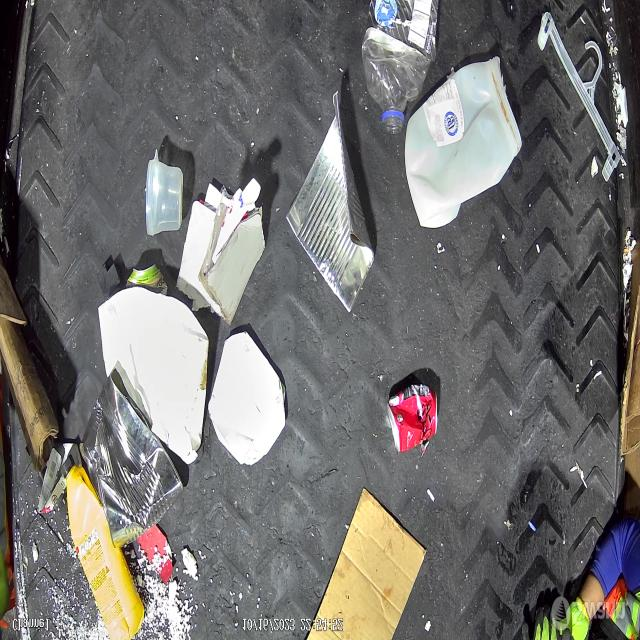can: (286, 88, 374, 312), (79, 368, 184, 548), (387, 384, 438, 455), (128, 265, 164, 295)
milk_jug: (404, 55, 522, 228)
non_white_jug: (61, 457, 145, 640)
plastic_bottle: (362, 0, 438, 134)
